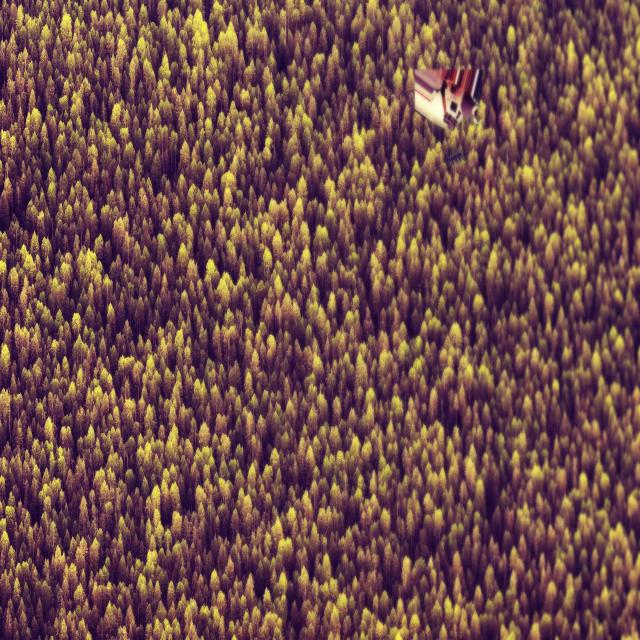airplane: (413, 65, 481, 132), (444, 146, 464, 166)
